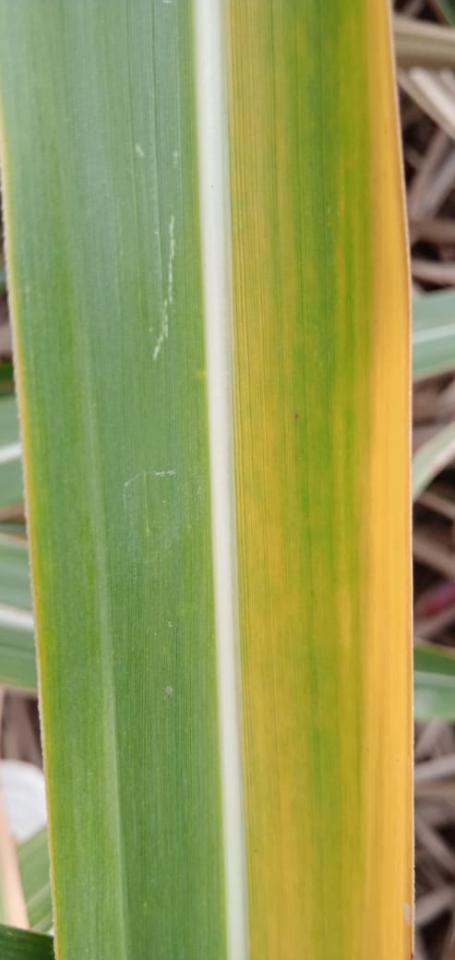Yellow: (223, 0, 316, 959), (356, 0, 416, 959), (0, 108, 65, 959)
